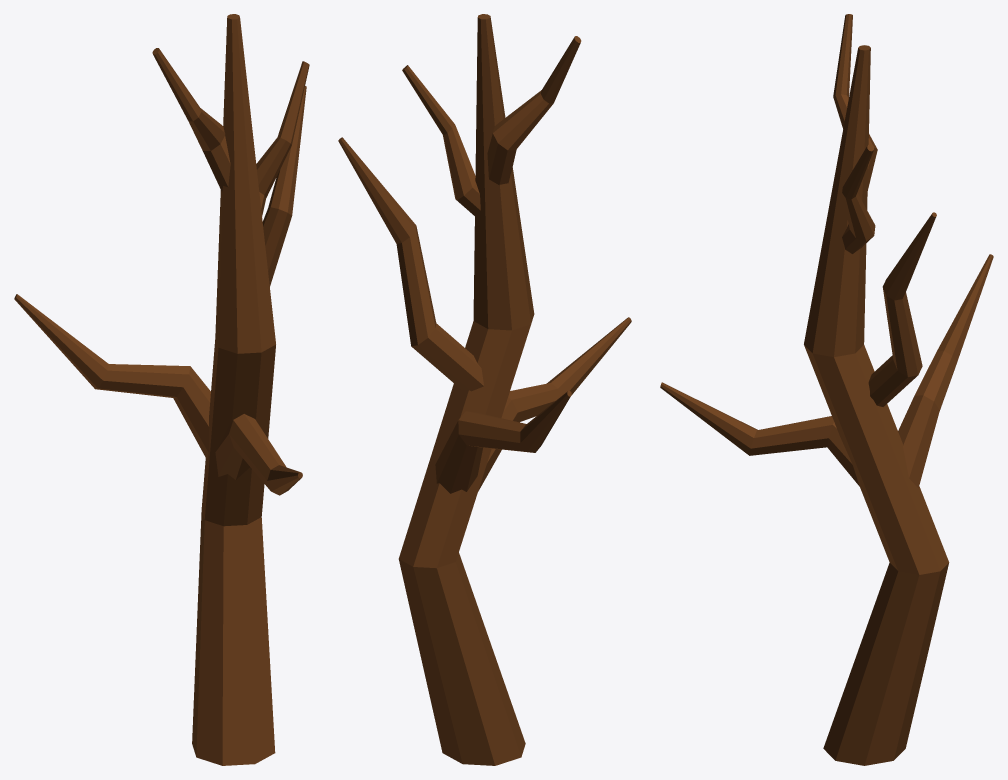
Rendered from Ramas.001.glb.
3 views of the same model, side by side, from view 1: azimuth 30°, elevation 25°; view 2: azimuth 150°, elevation 25°; view 3: azimuth 270°, elevation 25° (orthographic). The views are drawn at different scales.
Parts seen in each view (by area): view 1: Rama.001; view 2: Rama.001; view 3: Rama.001.
Part boxes in pixels (<box>): Rama.001: <box>14,14,309,765</box>; Rama.001: <box>338,14,631,765</box>; Rama.001: <box>660,14,993,765</box>.
Bounding box in the file's own units: 6.37 × 16.98 × 7.32.
